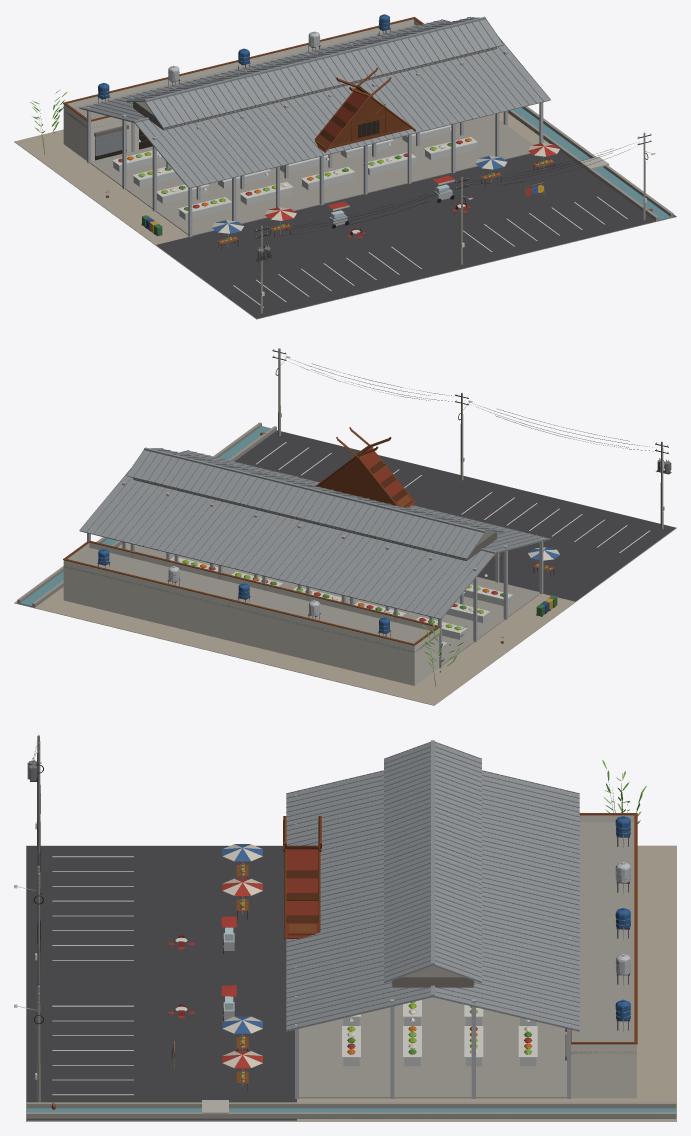
File: market.glb
The picture shows the model from 3 angles, top to bottom: view 1: azimuth 30°, elevation 25°; view 2: azimuth 150°, elevation 25°; view 3: azimuth 270°, elevation 25°; orthographic projection. The views are drawn at different scales.
Visible parts, largest first — view 1: body, windows; view 2: body; view 3: body.
Boxes of the visible parts, <box> form: body: <box>14,14,676,319</box>; windows: <box>95,120,654,199</box>; body: <box>14,348,676,705</box>; body: <box>14,734,676,1121</box>.
Size of the model in its own units: 48.6 by 12.8 by 48.78.
